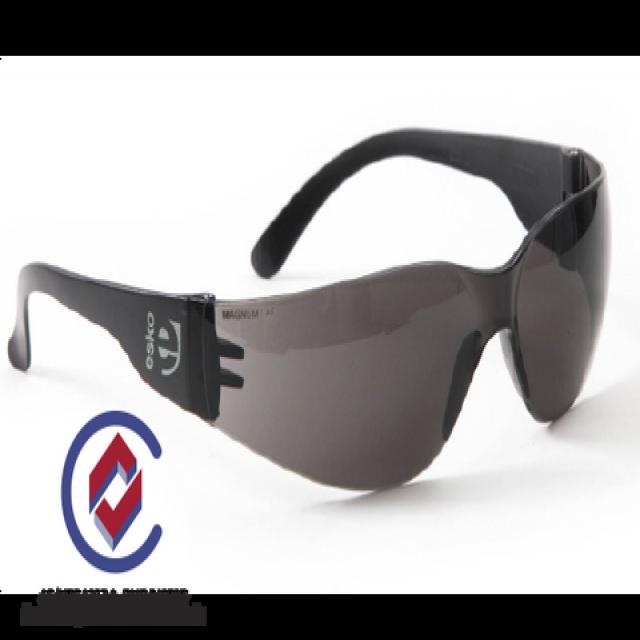Protective Glasses: (2, 108, 628, 502)
